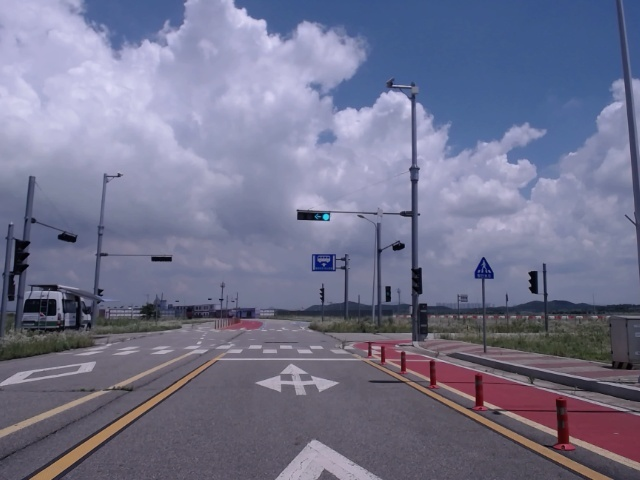all_green_4: (297, 208, 333, 221)
